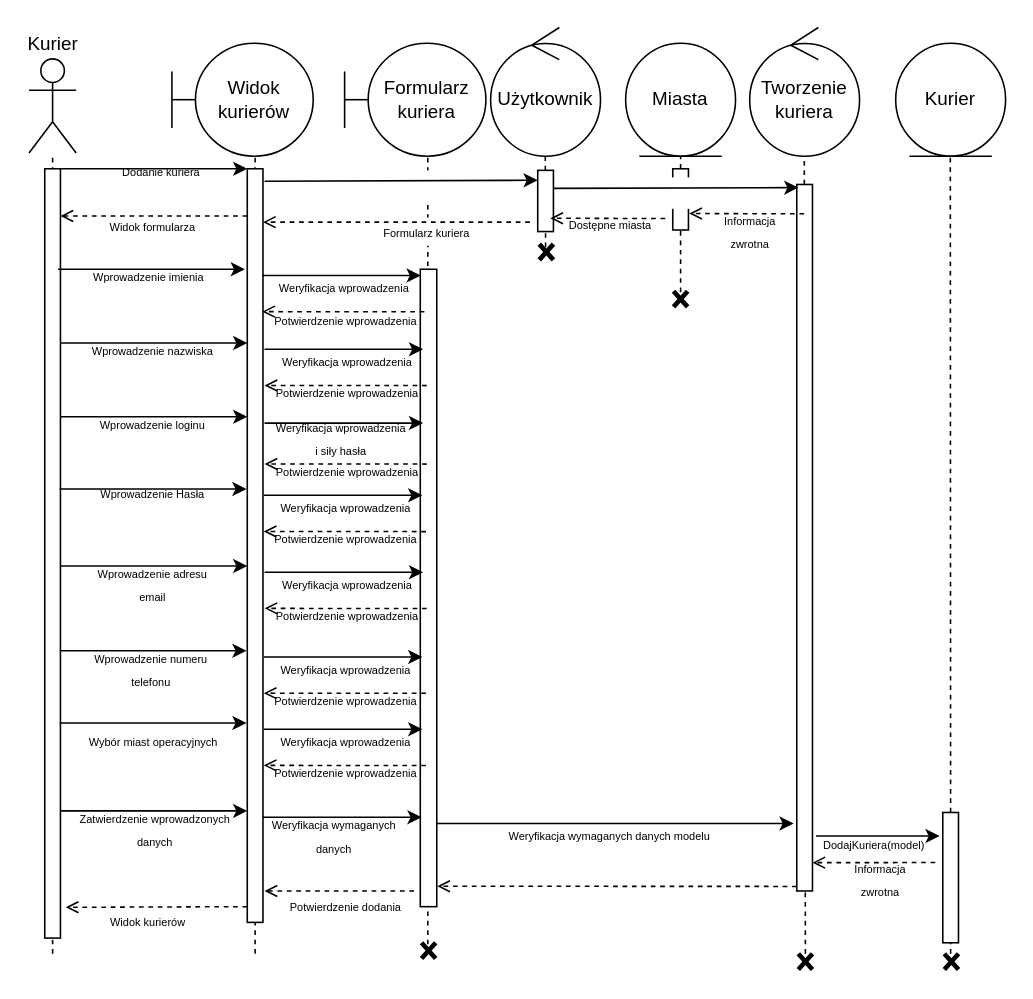
Some shapes in this 1033 by 999 pixel diagram are drawn without their labels. The box of each missing label's shape, as (x1, y1, x2, y2) in pixels:
Komunikat rezultatu: (505, 874, 686, 906)
Pobranie miast: (634, 177, 725, 208)
Sprawdzenie uprawnień: (338, 170, 517, 201)
